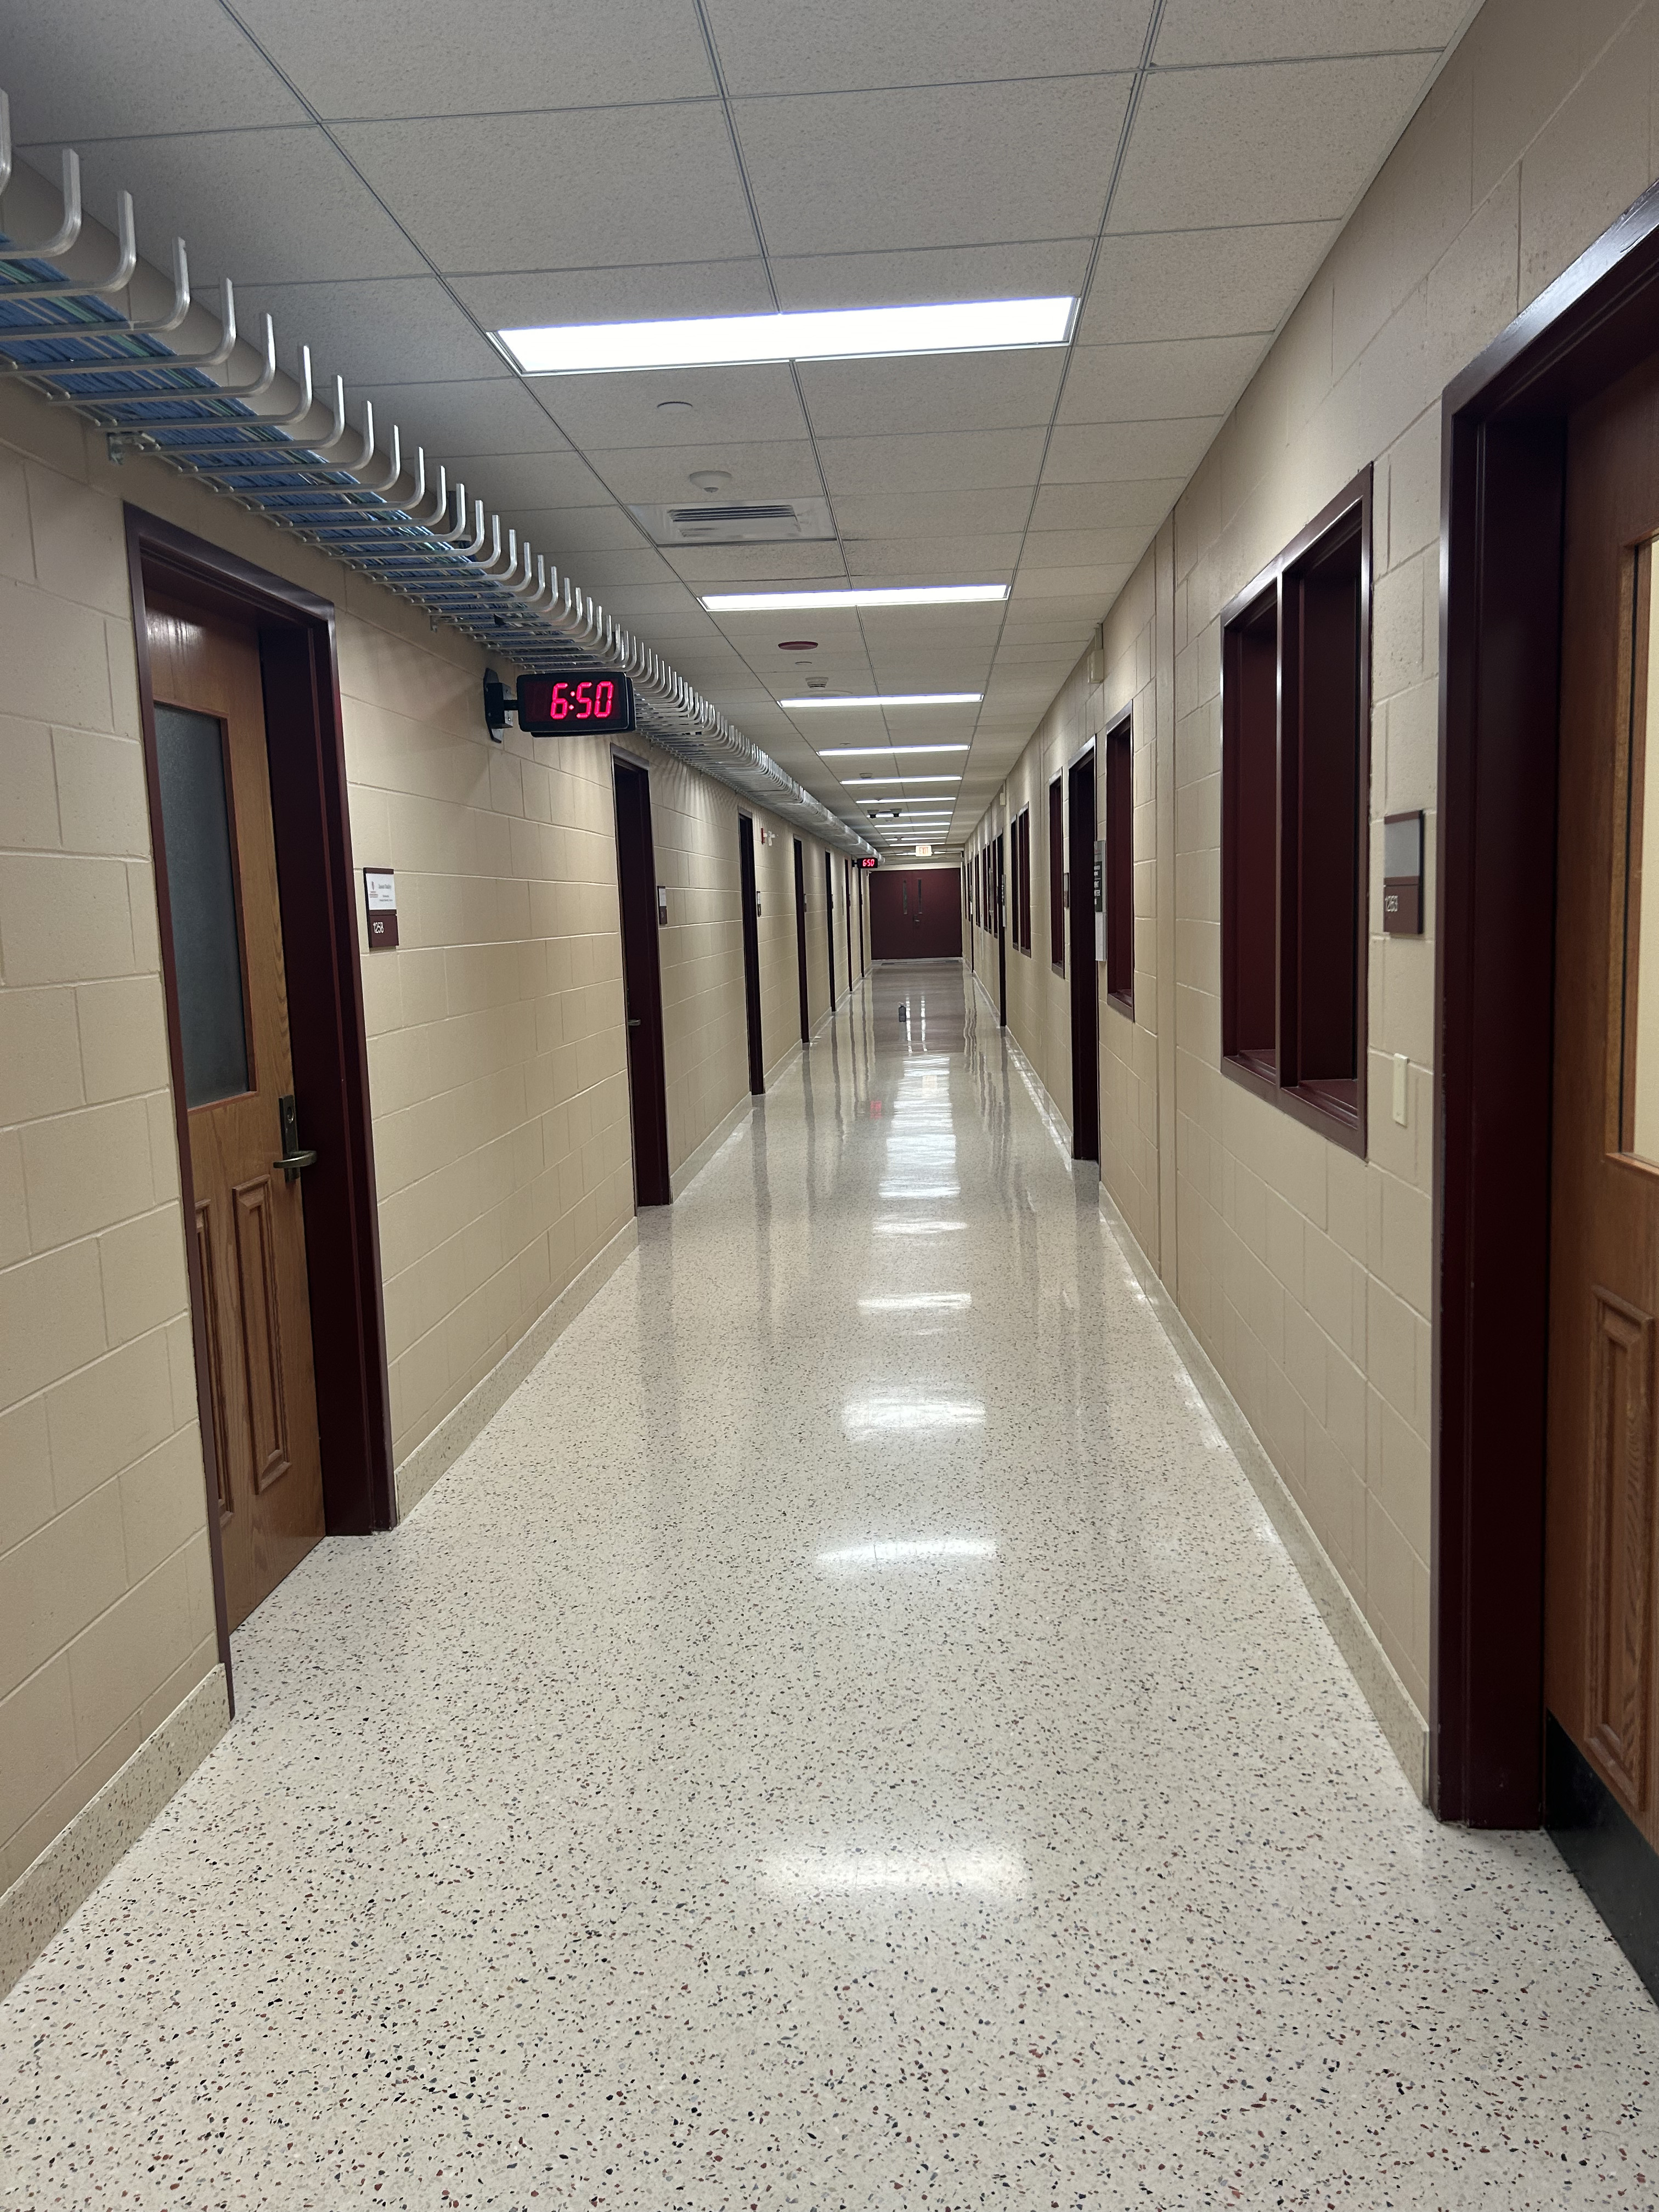bottle: (896, 991, 910, 1031)
